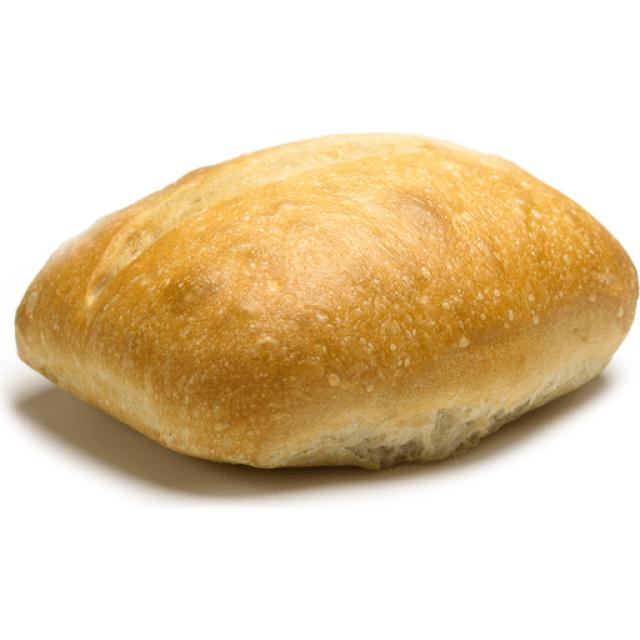Ciabatta: (15, 136, 636, 466)
